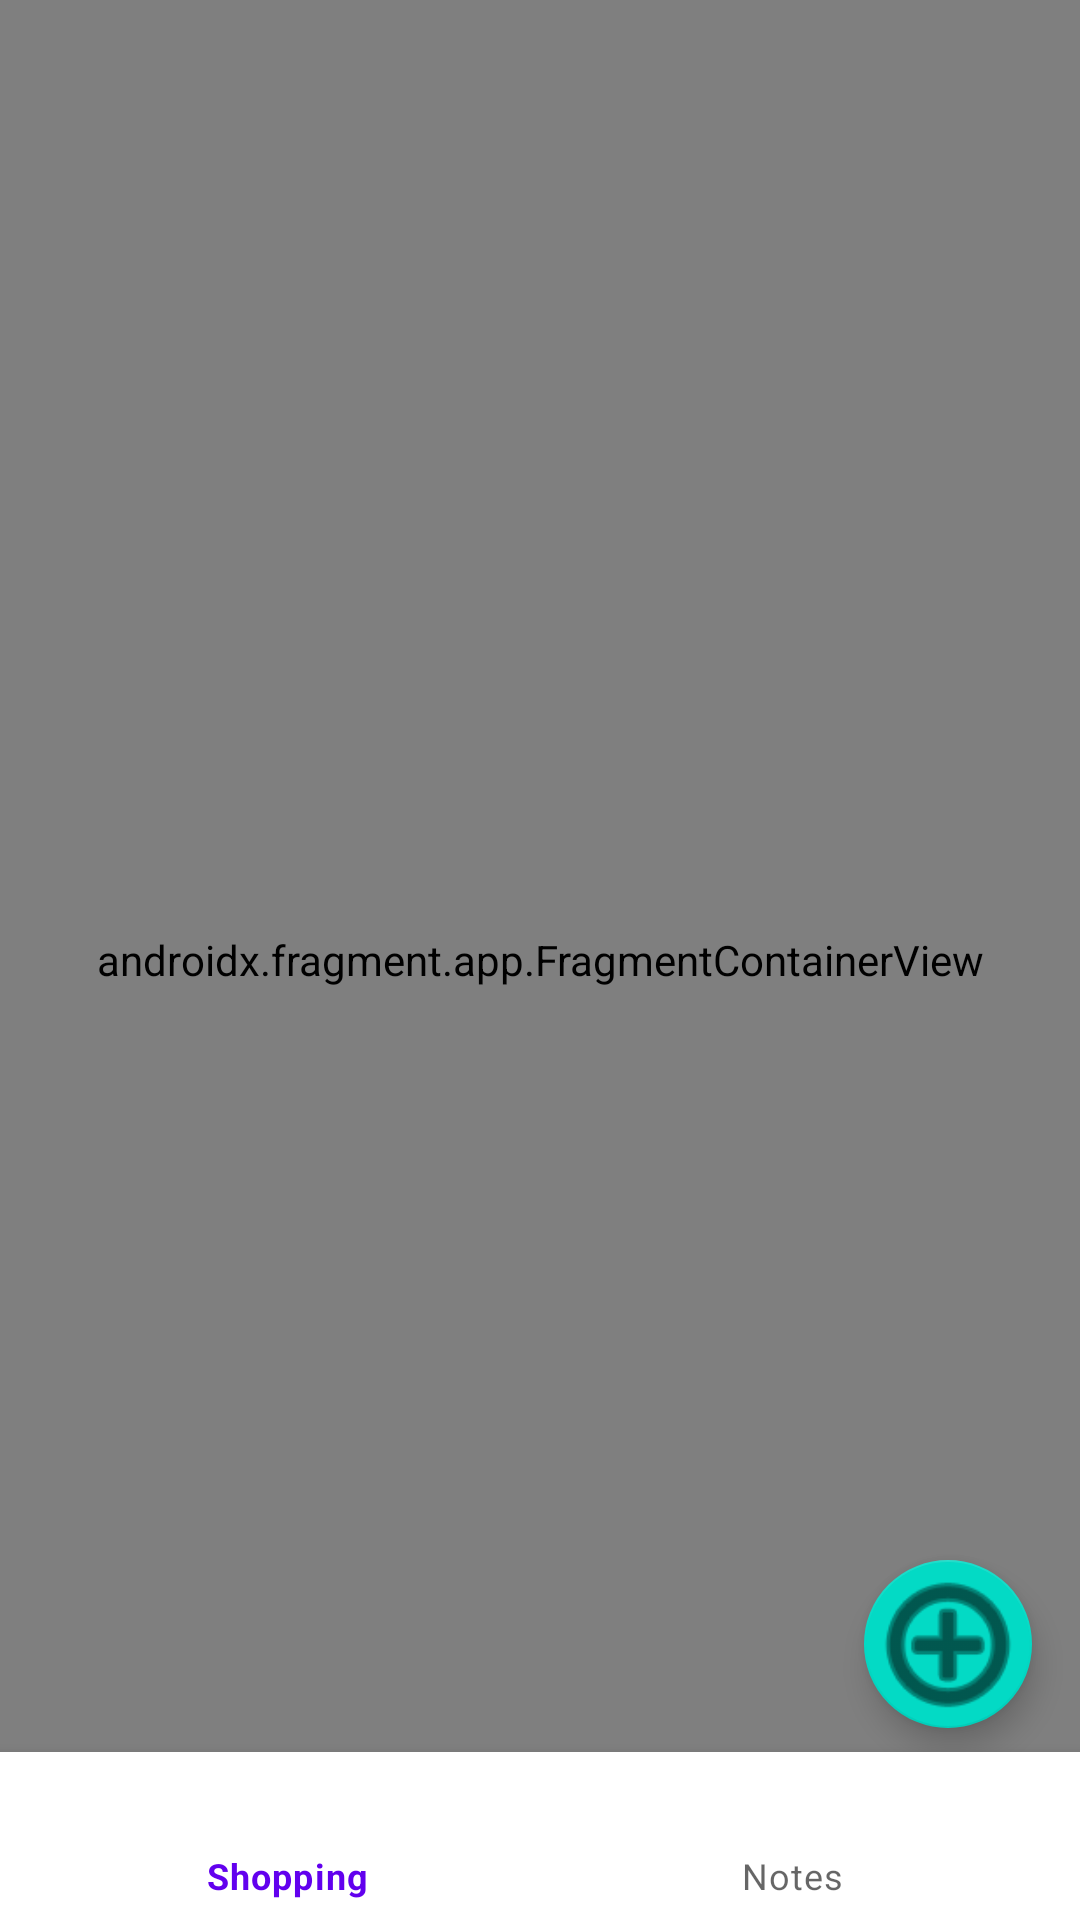

Screen size 1080x1920. Icon name, then its box in pixels as BBox(x1, y1, x2, y2):
add: BBox(864, 1560, 1032, 1728)
